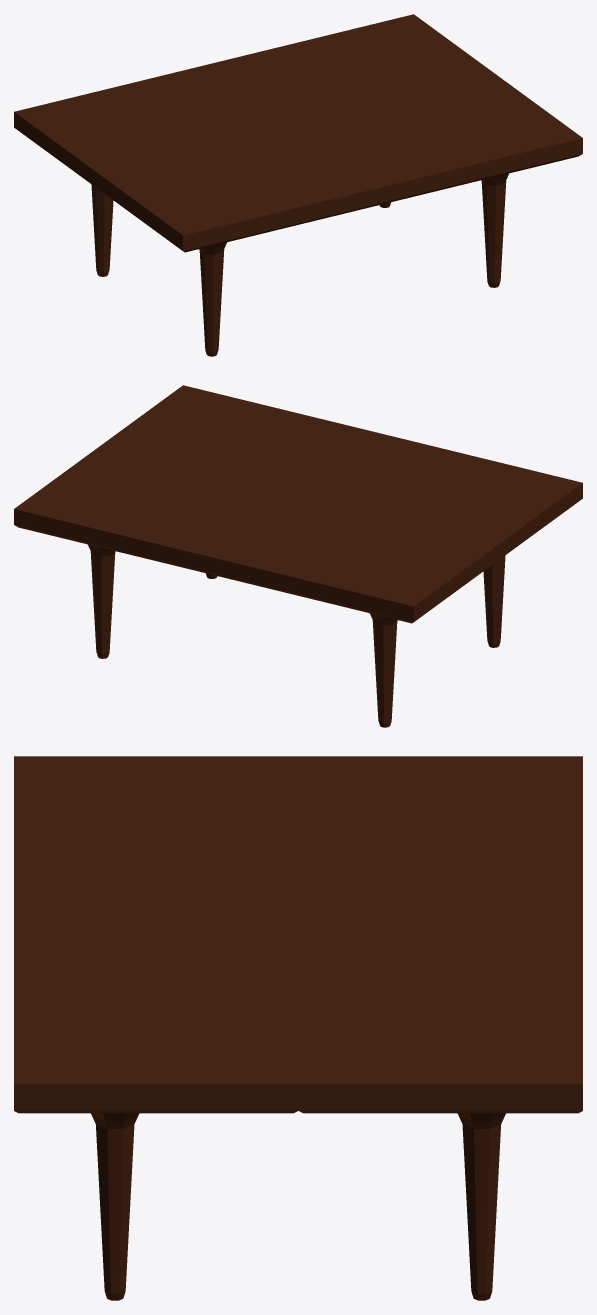
The model's file is Table.glb.
3 renders of one model, top to bottom at view 1: azimuth 30°, elevation 25°; view 2: azimuth 150°, elevation 25°; view 3: azimuth 270°, elevation 25°, orthographic. The views are drawn at different scales.
Parts seen in each view (by area): view 1: Table-col; view 2: Table-col; view 3: Table-col.
Part boxes in pixels (x1=…): Table-col: x1=14, y1=14, x2=582, y2=356; Table-col: x1=14, y1=385, x2=582, y2=727; Table-col: x1=14, y1=756, x2=582, y2=1300.
Size of the model in its own units: 14.27 by 5.3 by 10.46.
Materials: 1 (1 with a texture image).
